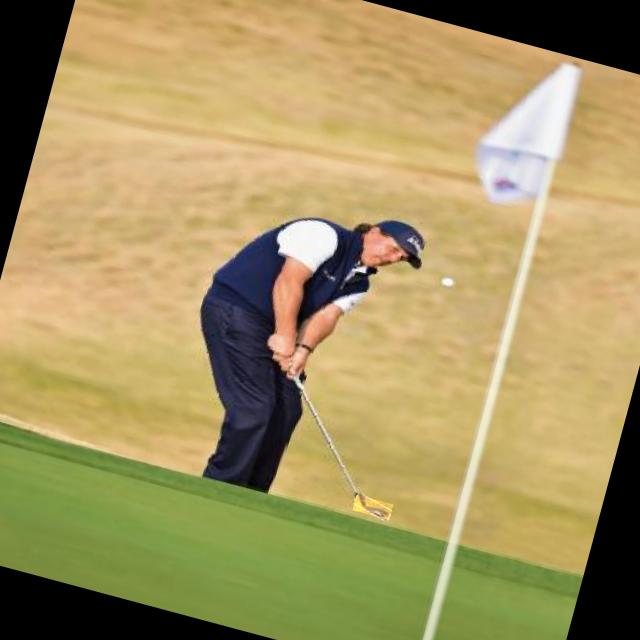club head: (352, 494, 393, 520)
